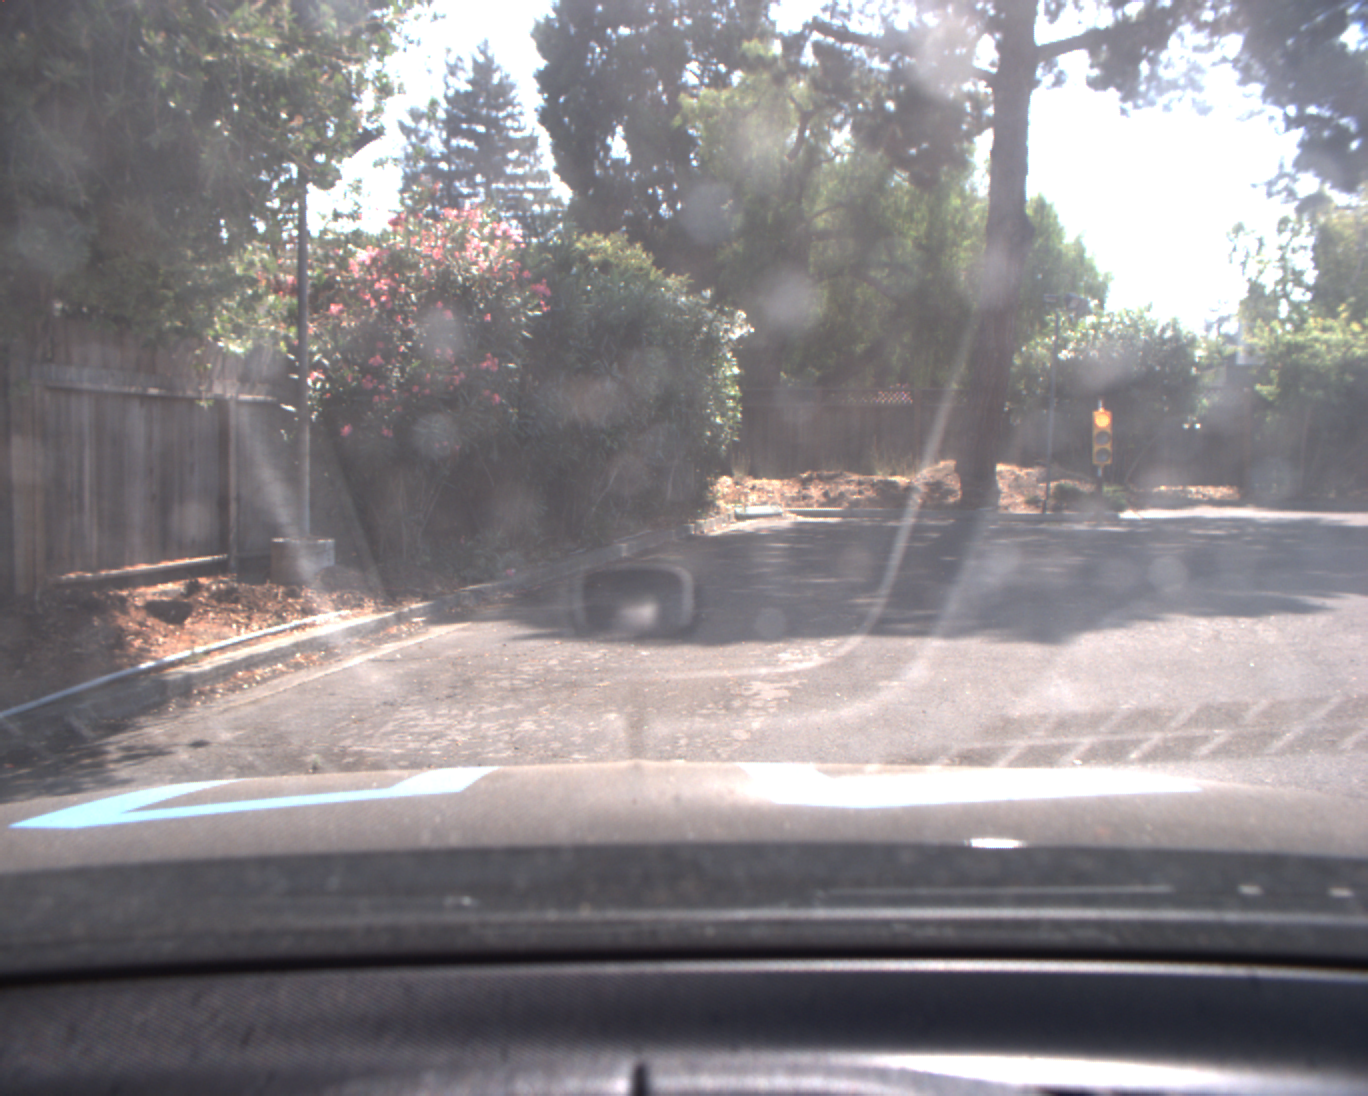red: (1092, 409, 1115, 467)
